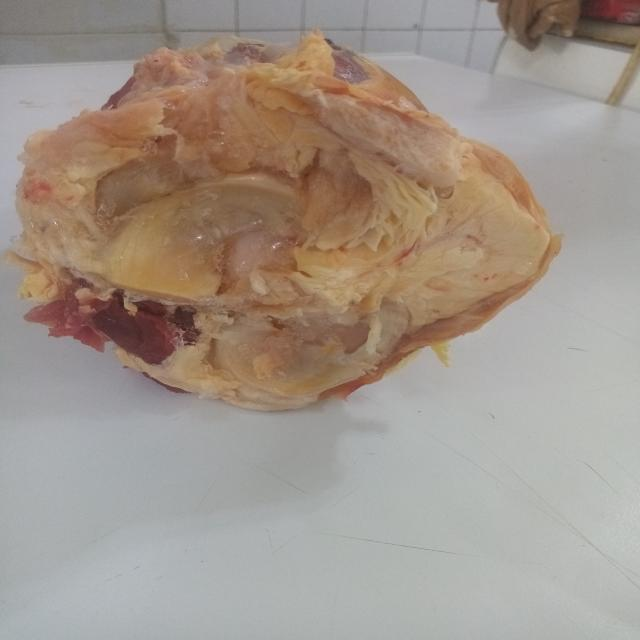beef: (0, 20, 603, 427)
